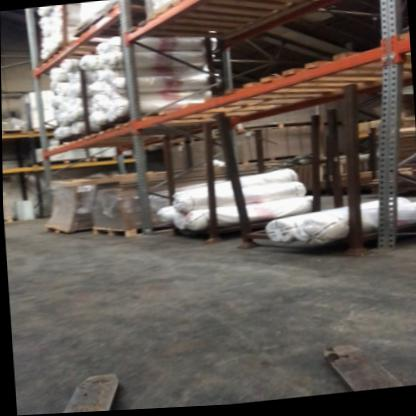vertical_damage: (360, 233, 401, 261), (138, 219, 160, 243)
